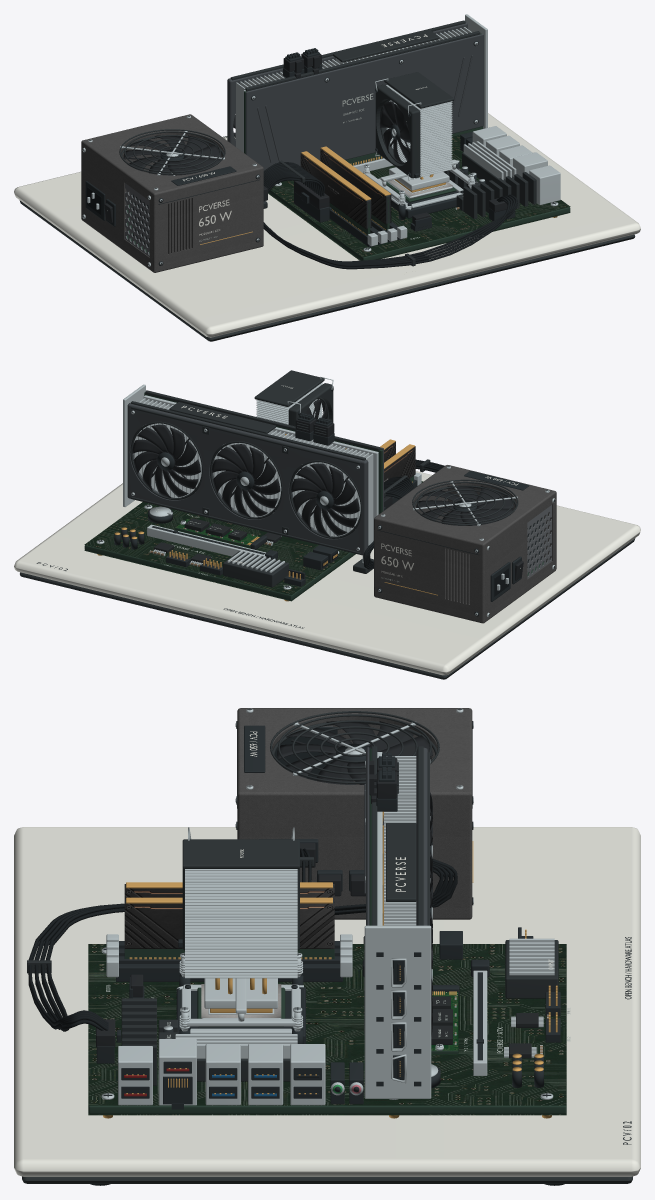
File: atlas.glb
The picture shows the model from 3 angles, top to bottom: view 1: azimuth 30°, elevation 25°; view 2: azimuth 150°, elevation 25°; view 3: azimuth 270°, elevation 25°; orthographic projection. The views are drawn at different scales.
Visible parts, largest first — view 1: base_Porcelain, gpu_GPU machined metal, psu_PCVerse powder coated PSU, board_Brushed aluminium, board_Motherboard silkscreen, cooler_Brushed aluminium, cooler_Graphite enamel, gpu_Graphite enamel, base_Graphite enamel, board_Graphite enamel, ram_PCVerse memory spreader, board_Ceramic (+12 smaller); view 2: base_Porcelain, psu_PCVerse powder coated PSU, gpu_GPU machined metal, gpu_Graphite enamel, board_Motherboard silkscreen, gpu_Brushed aluminium, gpu_Fan satin polymer.003, gpu_Fan satin polymer.001, gpu_Fan satin polymer.002, base_Graphite enamel, board_Ceramic, cooler_Graphite enamel (+14 smaller); view 3: base_Porcelain, board_Motherboard silkscreen, psu_PCVerse powder coated PSU, cooler_Brushed aluminium, board_Brushed aluminium, gpu_Brushed aluminium, board_Ceramic, ram_PCVerse memory spreader, gpu_Graphite enamel, wiringEps_Woven cable sheath, board_Midnight PCB, base_Graphite enamel (+14 smaller).
Boxes of the visible parts, <box> form: base_Porcelain: <box>14,113,640,337</box>; gpu_GPU machined metal: <box>227,22,483,170</box>; psu_PCVerse powder coated PSU: <box>81,114,263,272</box>; board_Brushed aluminium: <box>275,126,560,251</box>; board_Motherboard silkscreen: <box>268,135,570,260</box>; cooler_Brushed aluminium: <box>363,78,474,204</box>; cooler_Graphite enamel: <box>375,72,454,178</box>; gpu_Graphite enamel: <box>230,20,480,139</box>; base_Graphite enamel: <box>19,136,635,341</box>; board_Graphite enamel: <box>443,152,536,219</box>; ram_PCVerse memory spreader: <box>300,148,391,229</box>; board_Ceramic: <box>277,132,556,249</box>; base_Porcelain: <box>14,471,640,675</box>; psu_PCVerse powder coated PSU: <box>374,465,556,623</box>; gpu_GPU machined metal: <box>127,390,383,555</box>; gpu_Graphite enamel: <box>130,390,380,554</box>; board_Motherboard silkscreen: <box>84,481,423,601</box>; gpu_Brushed aluminium: <box>123,384,378,550</box>; gpu_Fan satin polymer.003: <box>290,463,359,536</box>; gpu_Fan satin polymer.001: <box>132,424,200,497</box>; gpu_Fan satin polymer.002: <box>211,444,280,517</box>; base_Graphite enamel: <box>20,538,635,679</box>; board_Ceramic: <box>98,479,417,587</box>; cooler_Graphite enamel: <box>254,370,333,426</box>; base_Porcelain: <box>14,827,640,1176</box>; board_Motherboard silkscreen: <box>88,944,566,1115</box>; psu_PCVerse powder coated PSU: <box>237,708,472,919</box>; cooler_Brushed aluminium: <box>179,827,303,1030</box>; board_Brushed aluminium: <box>101,934,554,1105</box>; gpu_Brushed aluminium: <box>364,752,431,1098</box>; board_Ceramic: <box>96,927,560,1109</box>; ram_PCVerse memory spreader: <box>124,884,334,948</box>; gpu_Graphite enamel: <box>371,746,429,925</box>; wiringEps_Woven cable sheath: <box>28,859,457,1031</box>; board_Midnight PCB: <box>88,1105,566,1114</box>; base_Graphite enamel: <box>22,936,632,1183</box>.
Size of the model in its own units: 10.25 by 3.62 by 8.
Materials: 25 (5 with a texture image).
